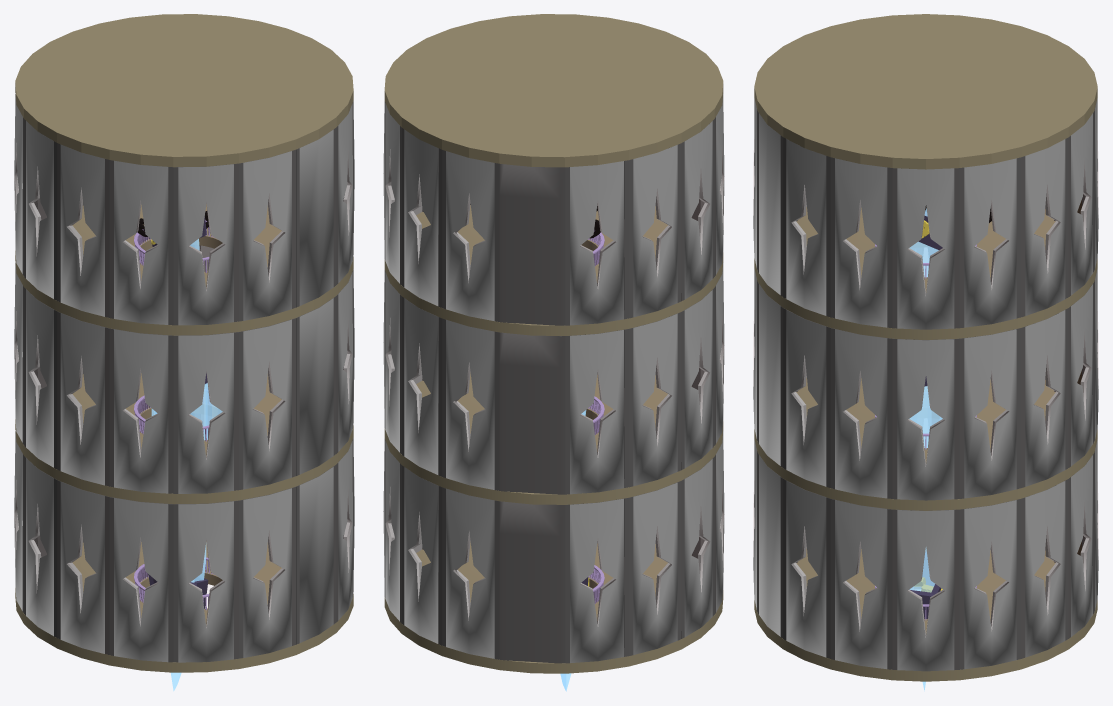
File: Tower_Tall_HighMiddle.fbx
The picture shows the model from 3 angles, left to right: view 1: azimuth 30°, elevation 25°; view 2: azimuth 150°, elevation 25°; view 3: azimuth 270°, elevation 25°; orthographic projection.
Visible parts, largest first — view 1: walls.010, walls.009, walls.011, floor.005, floorwithhole.007, floorwithhole.008, floorwithhole.006, crystal.002; view 2: walls.009, walls.010, walls.011, floor.005, floorwithhole.006, floorwithhole.007, floorwithhole.008; view 3: walls.010, walls.009, walls.011, floor.005, floorwithhole.006, floorwithhole.008, floorwithhole.007, crystal.002, crystalloops.002.
Part boxes in pixels (bbox=[...]): walls.010: bbox=[14, 245, 354, 493]; walls.009: bbox=[14, 413, 354, 662]; walls.011: bbox=[14, 94, 354, 325]; floor.005: bbox=[15, 14, 353, 167]; floorwithhole.007: bbox=[15, 541, 353, 672]; floorwithhole.008: bbox=[15, 204, 353, 335]; floorwithhole.006: bbox=[15, 373, 353, 504]; crystal.002: bbox=[151, 239, 222, 691]; walls.009: bbox=[383, 431, 724, 663]; walls.010: bbox=[383, 263, 724, 494]; walls.011: bbox=[383, 94, 724, 325]; floor.005: bbox=[384, 14, 723, 167]; floorwithhole.006: bbox=[384, 372, 723, 504]; floorwithhole.007: bbox=[384, 541, 723, 673]; floorwithhole.008: bbox=[384, 205, 723, 335]; walls.010: bbox=[753, 248, 1098, 500]; walls.009: bbox=[753, 419, 1098, 671]; walls.011: bbox=[753, 98, 1098, 329]; floor.005: bbox=[754, 14, 1097, 169]; floorwithhole.006: bbox=[754, 378, 1097, 510]; floorwithhole.008: bbox=[754, 207, 1097, 339]; floorwithhole.007: bbox=[754, 548, 1097, 681]; crystal.002: bbox=[909, 208, 942, 691]; crystalloops.002: bbox=[909, 212, 942, 618].
Bounding box in the file's own units: 9049 × 17669 × 9049.
